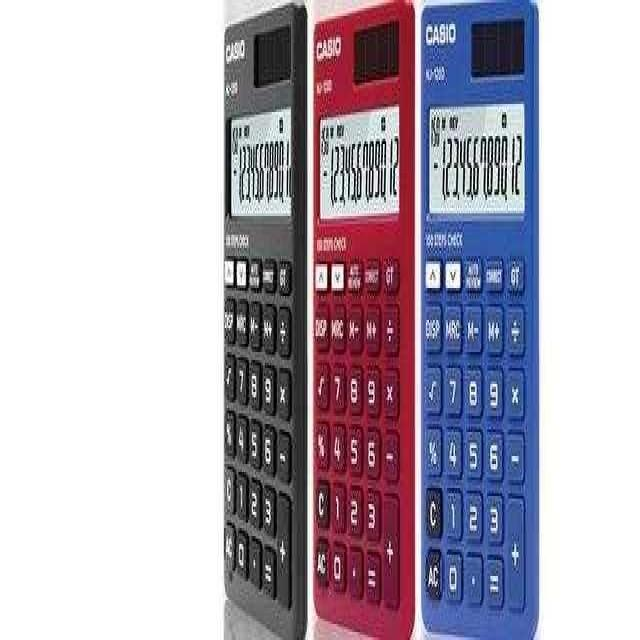Calculator: (421, 0, 538, 637), (310, 0, 414, 637), (221, 0, 307, 637)
